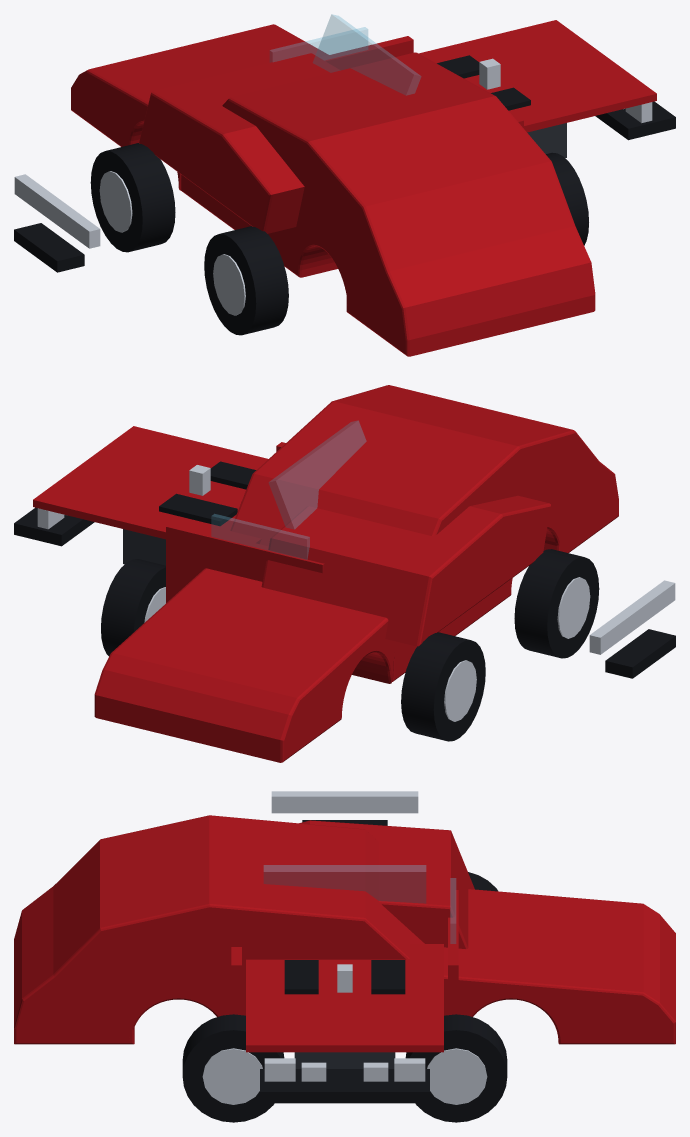
Rendered from foxbody.glb.
The picture shows the model from 3 angles, top to bottom: view 1: azimuth 30°, elevation 25°; view 2: azimuth 150°, elevation 25°; view 3: azimuth 270°, elevation 25°; orthographic projection.
Parts seen in each view (by area): view 1: Body, Cabin, Hood, WheelRL_Tire, WheelRR_Tire, Windshield, TailLights, RearBumper, DoorRWindow, WheelFL_Tire, DoorR, Grille (+6 smaller); view 2: Body, Cabin, Hood, WheelRR_Tire, WheelRL_Tire, DoorR, Windshield, WheelFR_Tire, DoorRWindow, TailLights, RearBumper, Grille (+6 smaller); view 3: Body, Hood, Cabin, Grille, WheelFL_Tire, WheelFR_Tire, Windshield, TailLights, WheelFL_Rim, WheelFR_Rim, EngineBlock, ScoopL (+7 smaller).
Part boxes in pixels (x1,y1,x2,y2): Body: (71,24,595,356); Cabin: (139,53,340,233); Hood: (419,20,656,132); WheelRL_Tire: (204,226,288,335); WheelRR_Tire: (90,143,175,252); Windshield: (313,14,421,95); TailLights: (14,174,100,248); RearBumper: (14,223,84,272); DoorRWindow: (270,27,367,62); WheelFL_Tire: (546,152,588,245); DoorR: (320,36,413,70); Grille: (595,101,675,140); Body: (94,385,618,762); Cabin: (261,495,550,646); Hood: (33,426,268,543); WheelRR_Tire: (401,632,485,741); WheelRL_Tire: (514,549,599,658); DoorR: (166,523,324,602); Windshield: (269,420,366,529); WheelFR_Tire: (101,559,165,656); DoorRWindow: (211,514,309,559); TailLights: (589,580,675,654); RearBumper: (605,629,675,678); Grille: (14,507,94,546); Body: (14,815,675,1044); Hood: (246,944,443,1052); Cabin: (299,820,474,948); Grille: (260,1069,429,1103); WheelFL_Tire: (182,1014,284,1122); WheelFR_Tire: (405,1014,507,1122); Windshield: (264,865,425,903); TailLights: (271,791,418,813); WheelFL_Rim: (202,1048,262,1104); WheelFR_Rim: (427,1048,487,1104); EngineBlock: (294,1052,395,1068); ScoopL: (284,960,318,994).
Bounding box in the file's own units: 4.37 × 1.38 × 4.28.
